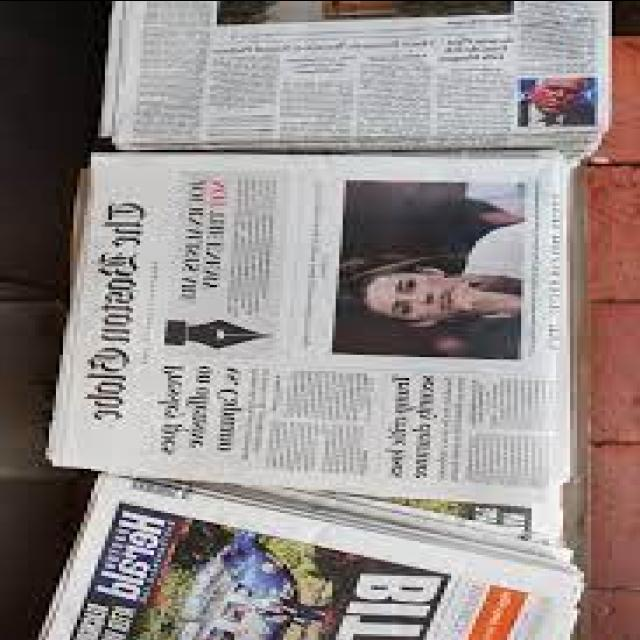newspaper: (67, 151, 580, 493), (39, 472, 577, 640), (105, 0, 613, 158)
